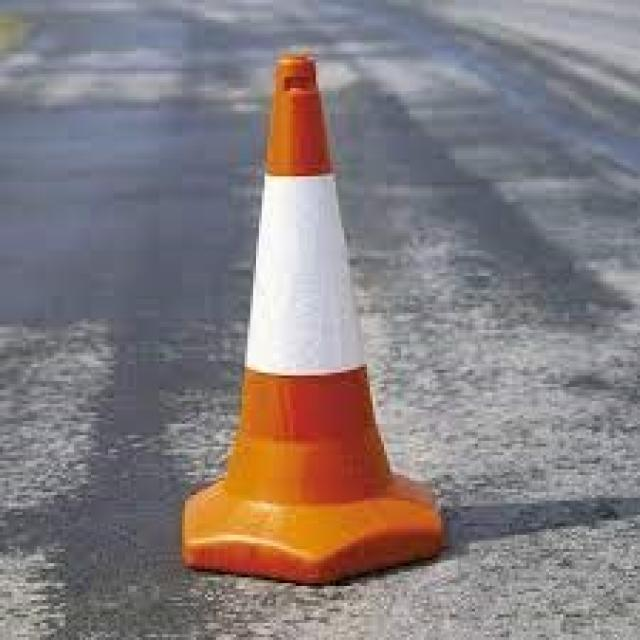Traffic-cone: (164, 41, 452, 592)
